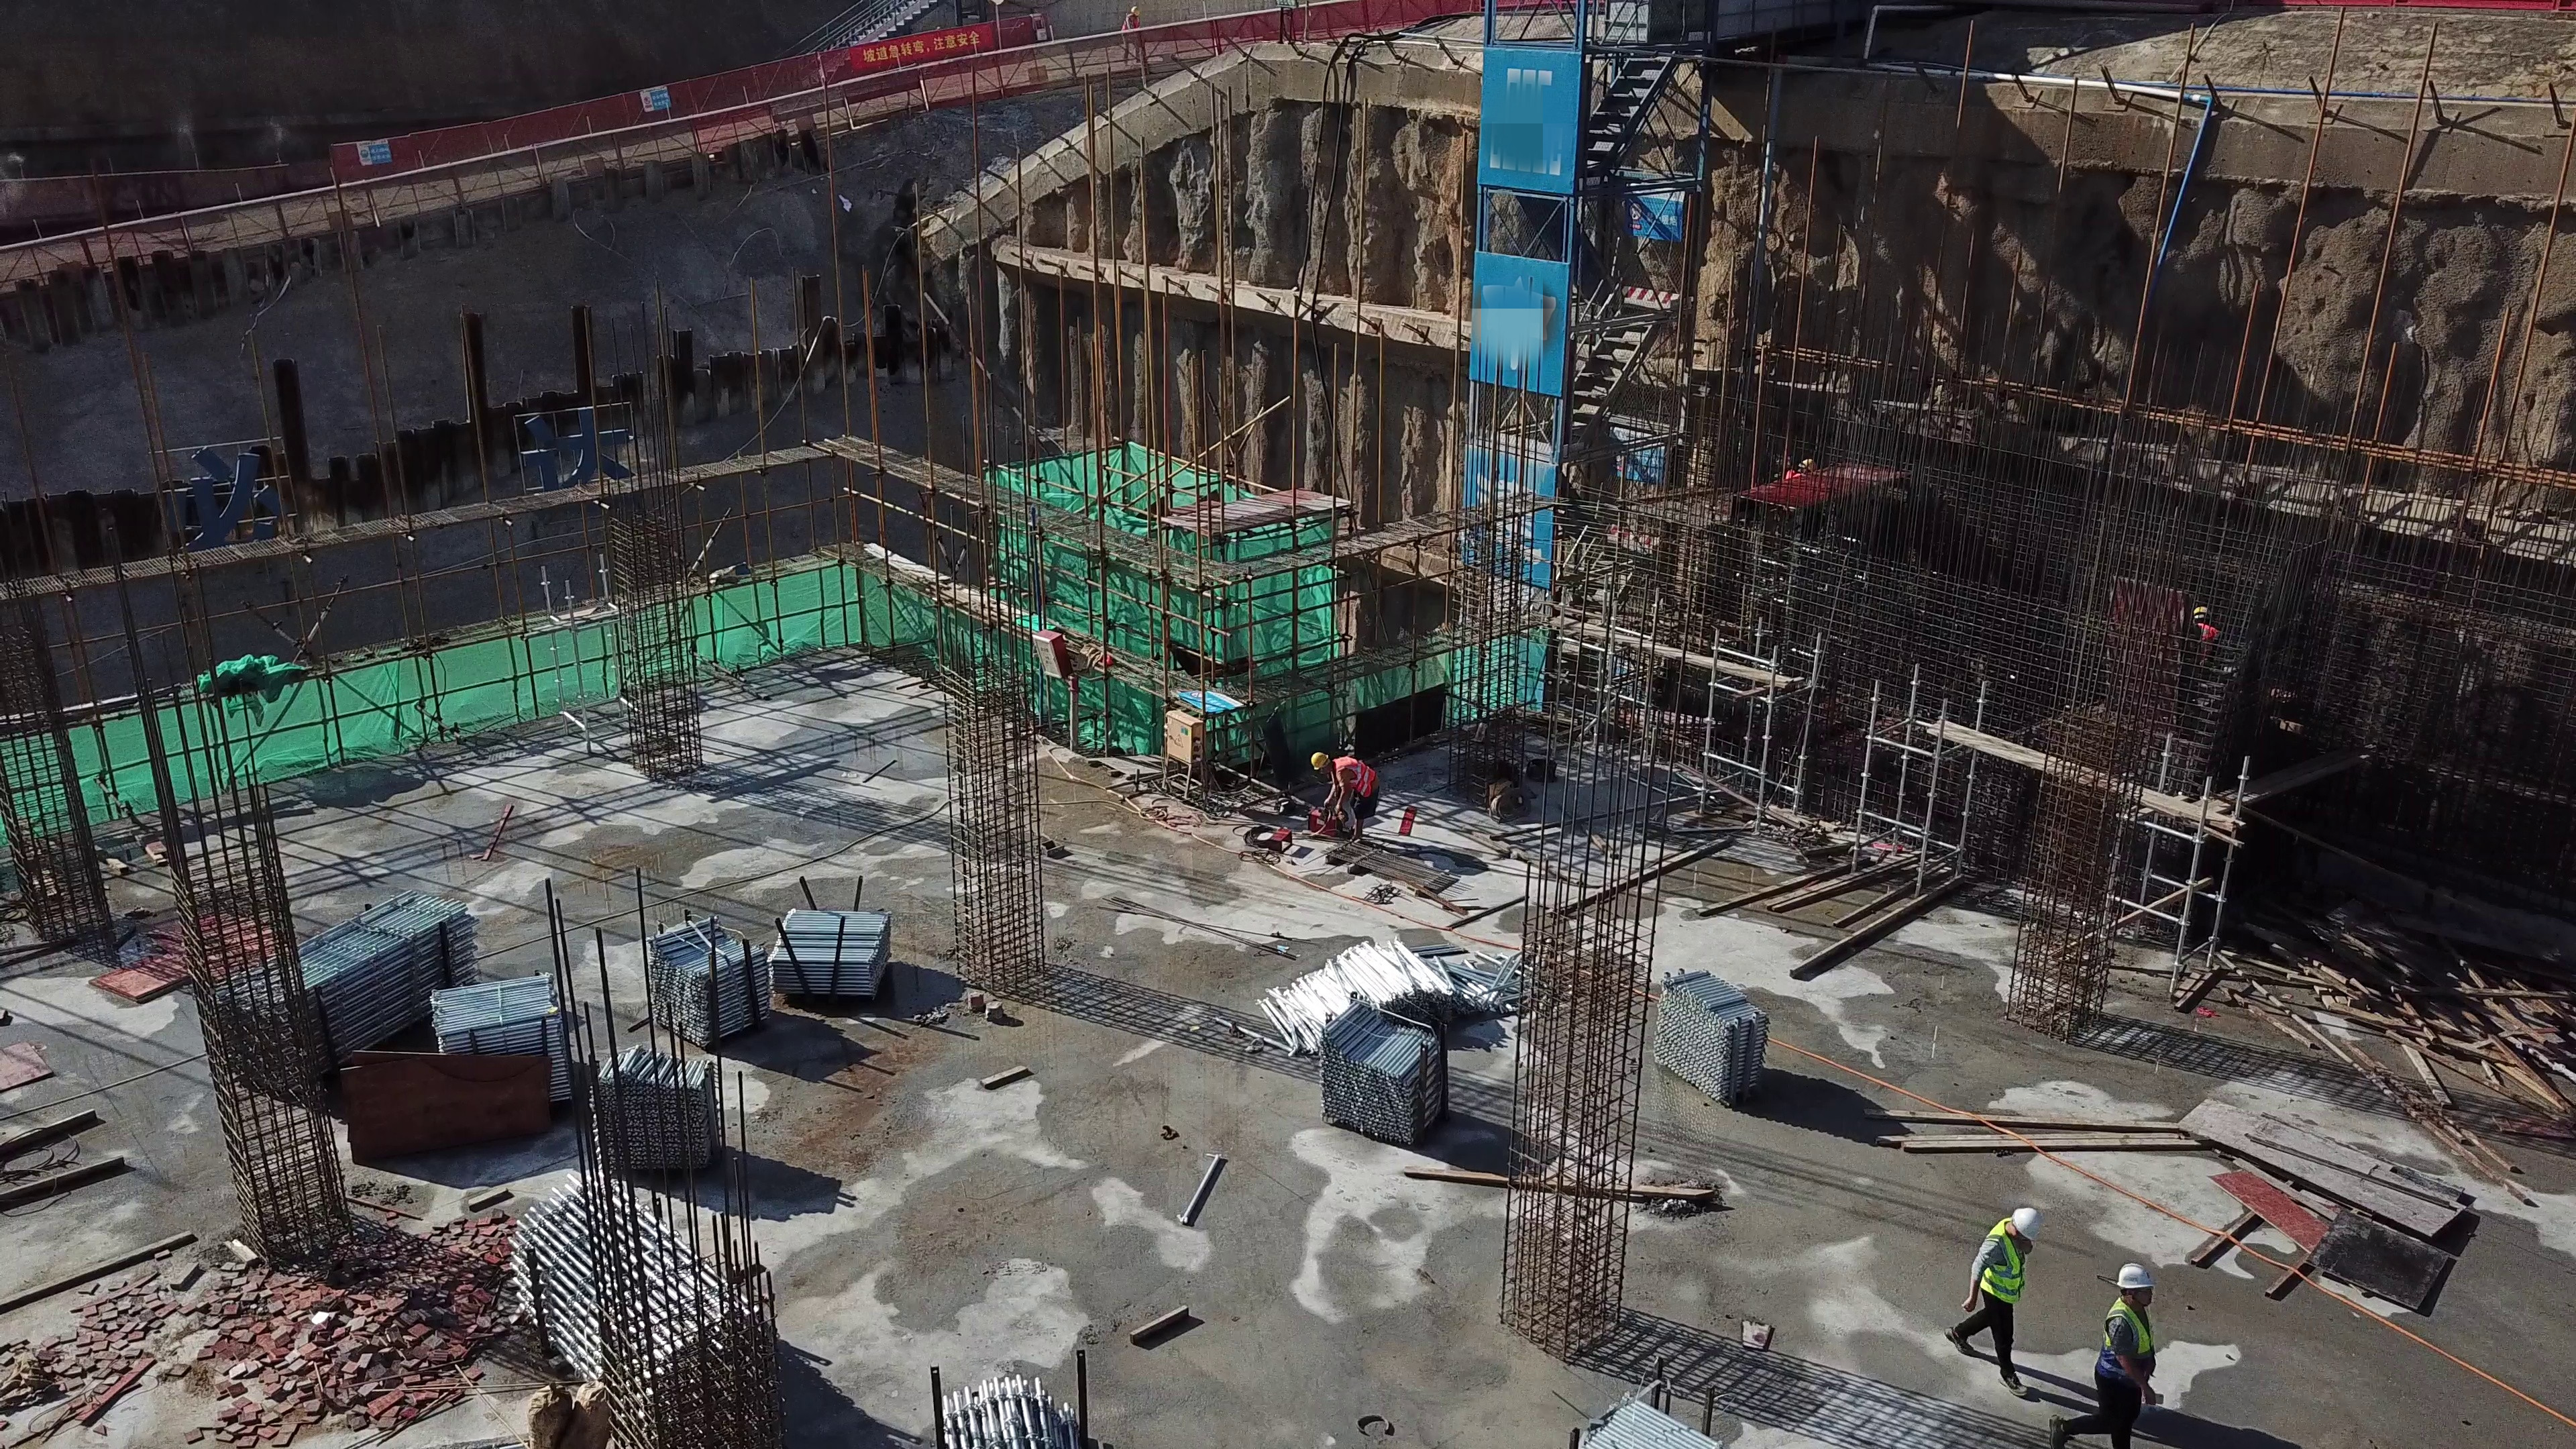ebox: (1159, 709, 1208, 795)
fence: (1080, 5, 1452, 71), (833, 30, 1077, 123), (614, 67, 832, 166), (343, 128, 608, 186), (205, 190, 435, 246), (6, 233, 205, 290)
helmet: (2117, 1260, 2155, 1291), (2010, 1208, 2036, 1240), (1311, 753, 1328, 769), (1800, 458, 1816, 469), (1130, 5, 1141, 15), (2194, 606, 2202, 615)
person: (2045, 1262, 2161, 1449), (1946, 1207, 2035, 1397), (2175, 610, 2214, 749), (1308, 747, 1370, 833), (1124, 7, 1145, 60)
scaffold: (503, 1179, 743, 1449), (224, 887, 483, 1096), (1273, 938, 1541, 1055), (595, 1044, 718, 1169), (930, 1358, 1098, 1449), (436, 976, 570, 1092), (1325, 998, 1440, 1130), (1656, 967, 1760, 1100), (657, 922, 765, 1040), (771, 892, 891, 995), (1592, 1395, 1719, 1449)
slogan: (854, 30, 994, 71), (1625, 172, 1701, 233), (1181, 687, 1229, 712), (354, 141, 390, 164), (640, 87, 667, 113)
vest: (2096, 1298, 2155, 1386), (1977, 1219, 2024, 1305), (1334, 756, 1368, 791), (1124, 15, 1138, 34)
